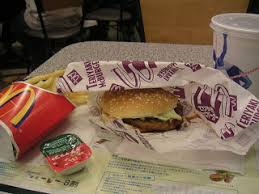hamburger: (97, 84, 189, 136)
